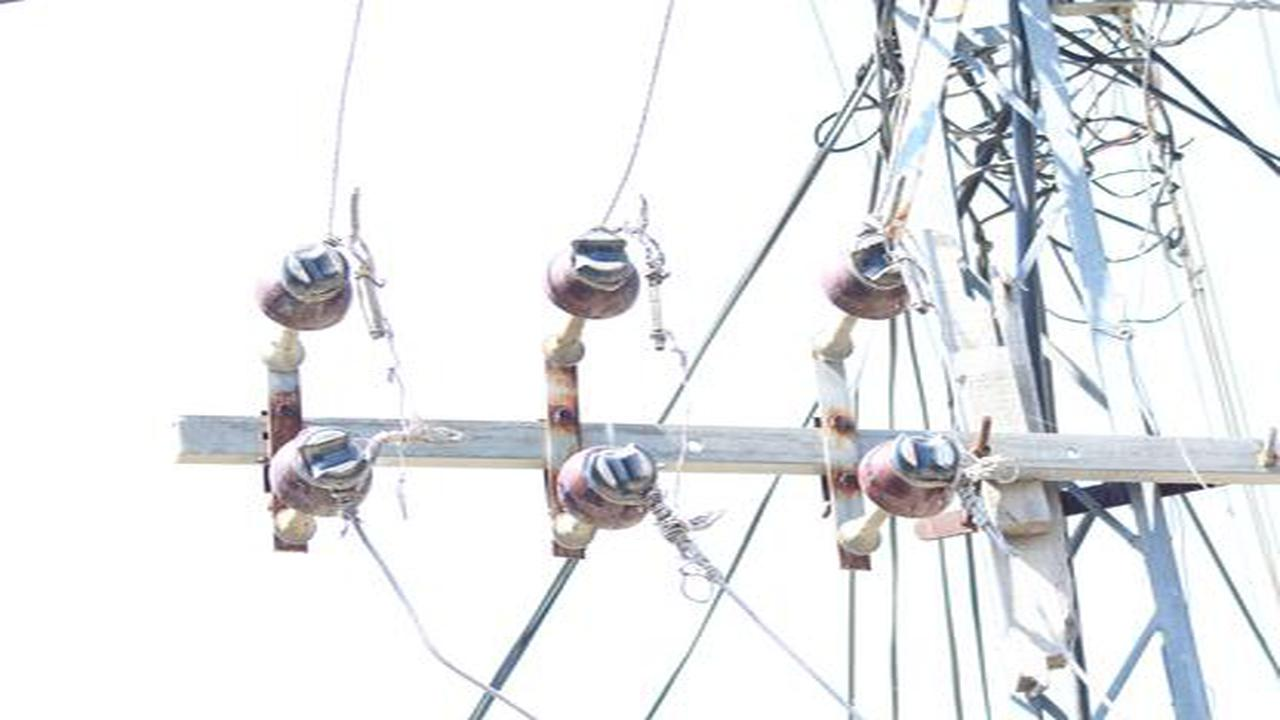insulator_pin: (538, 223, 645, 328), (856, 425, 962, 528), (264, 424, 376, 521), (814, 222, 918, 325), (249, 241, 359, 334), (552, 446, 657, 535)
